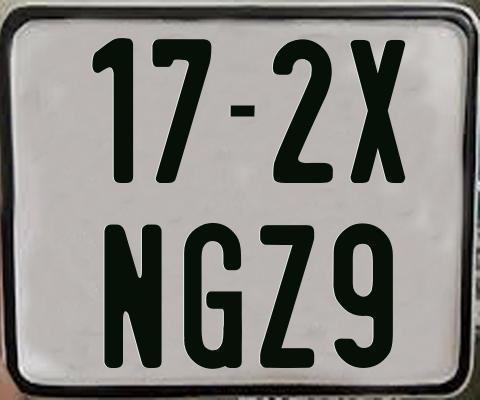1: (89, 35, 131, 183)
2: (270, 36, 335, 183)
7: (151, 36, 211, 184)
9: (332, 223, 397, 369)
G: (181, 221, 243, 368)
N: (101, 222, 159, 369)
X: (349, 40, 405, 183)
Z: (259, 223, 319, 369)
